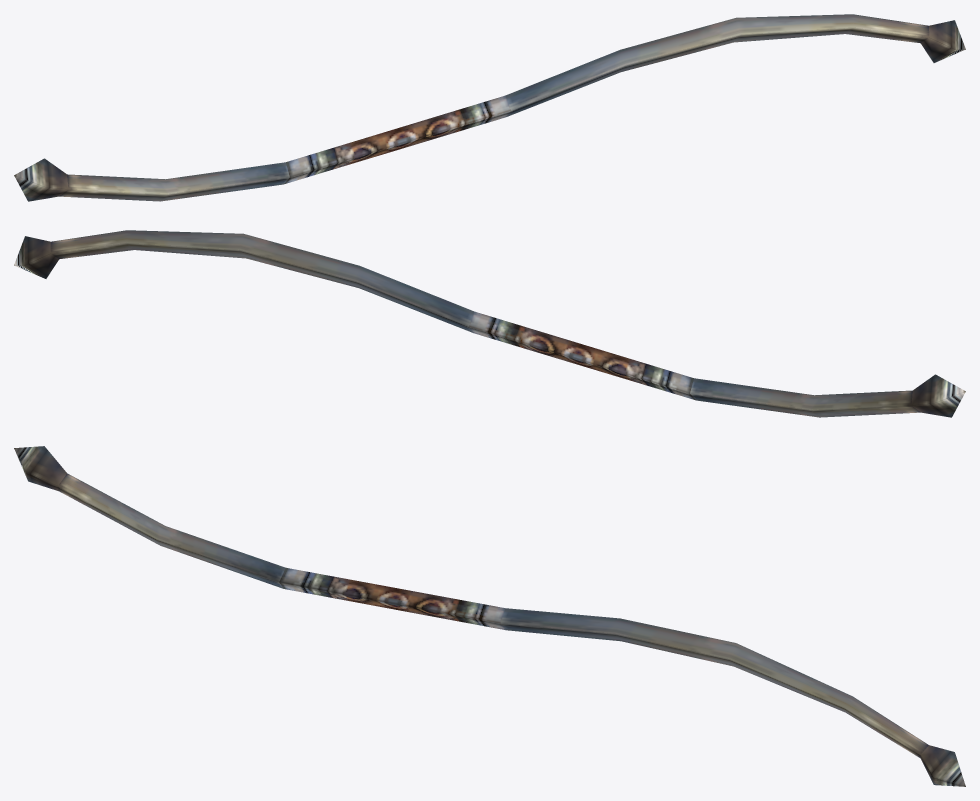
File: humanstaff01.obj
3 renders of one model, top to bottom at view 1: azimuth 30°, elevation 25°; view 2: azimuth 150°, elevation 25°; view 3: azimuth 330°, elevation 25°, orthographic.
Parts seen in each view (by area): view 1: humanstaff01; view 2: humanstaff01; view 3: humanstaff01.
Boxes of the visible parts, x1,y1,x2,y2 form: humanstaff01: (14,14,965,201); humanstaff01: (14,230,965,417); humanstaff01: (14,446,965,786).
Bounding box in the file's own units: 2.54 × 0.311 × 0.0993.
1 material, 1 textured.
